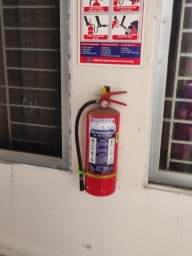fire_extinguisher: (64, 85, 148, 156)
